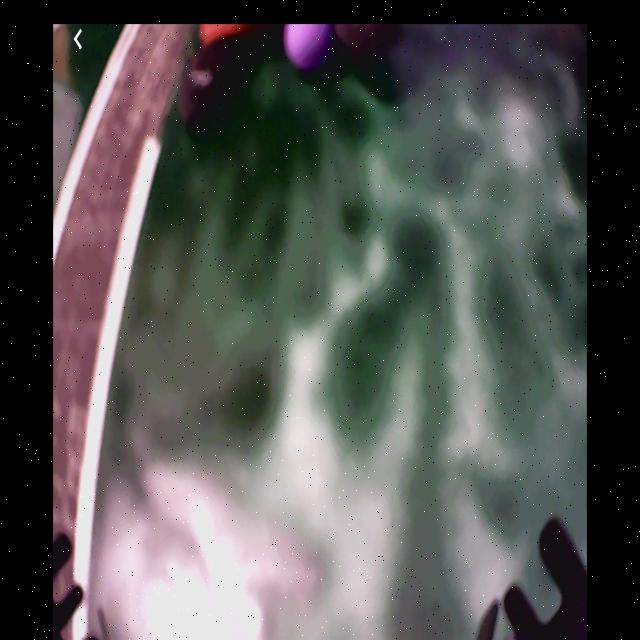ball: (287, 25, 330, 76)
